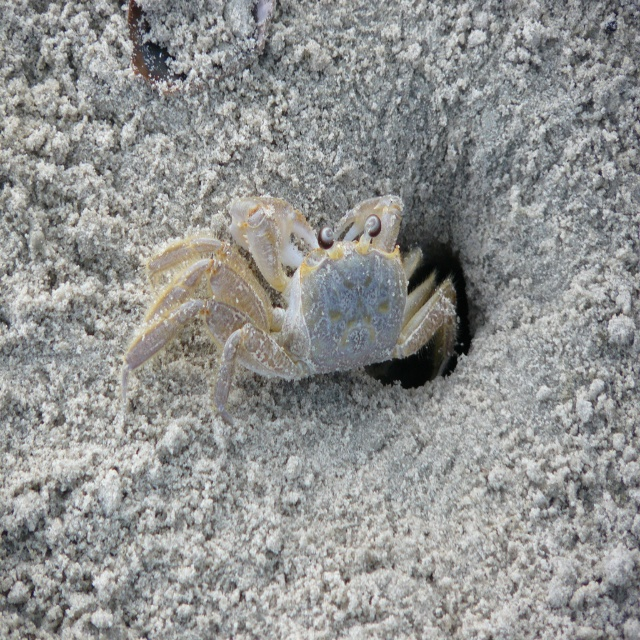Crab: (122, 195, 457, 425)
